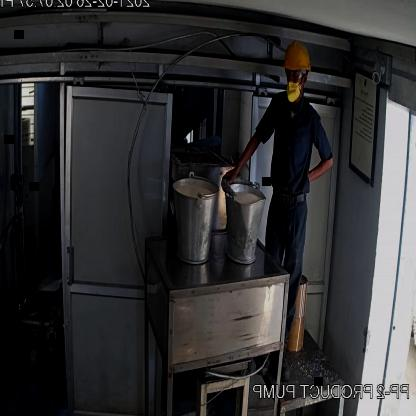helmet: (280, 28, 314, 91)
